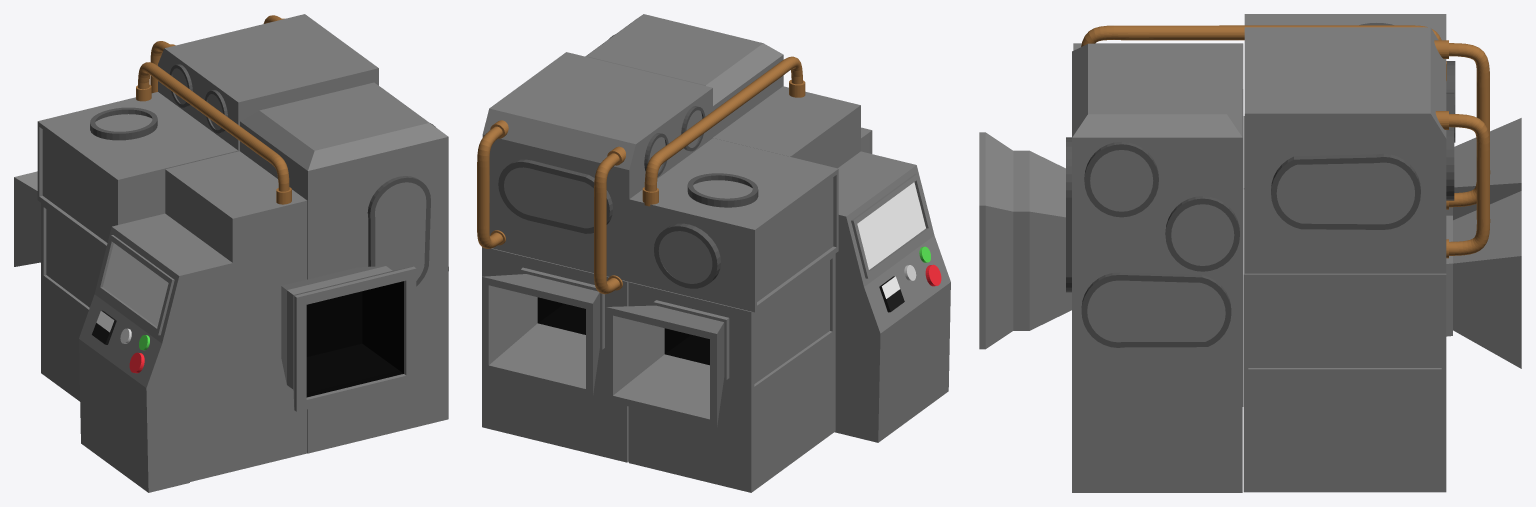
The model's file is Maquina Clasificadora de Metales.fbx.
3 renders of one model, left to right at view 1: azimuth 30°, elevation 25°; view 2: azimuth 150°, elevation 25°; view 3: azimuth 270°, elevation 25°, orthographic. The views are drawn at different scales.
Visible parts, largest first — view 1: Maquina Clasificadora; view 2: Maquina Clasificadora; view 3: Maquina Clasificadora.
Part boxes in pixels (left/top/right/bottom): Maquina Clasificadora: left=14, top=14, right=448, bottom=492; Maquina Clasificadora: left=477, top=14, right=950, bottom=492; Maquina Clasificadora: left=979, top=14, right=1521, bottom=492.
Bounding box in the file's own units: 300 × 282 × 365.
